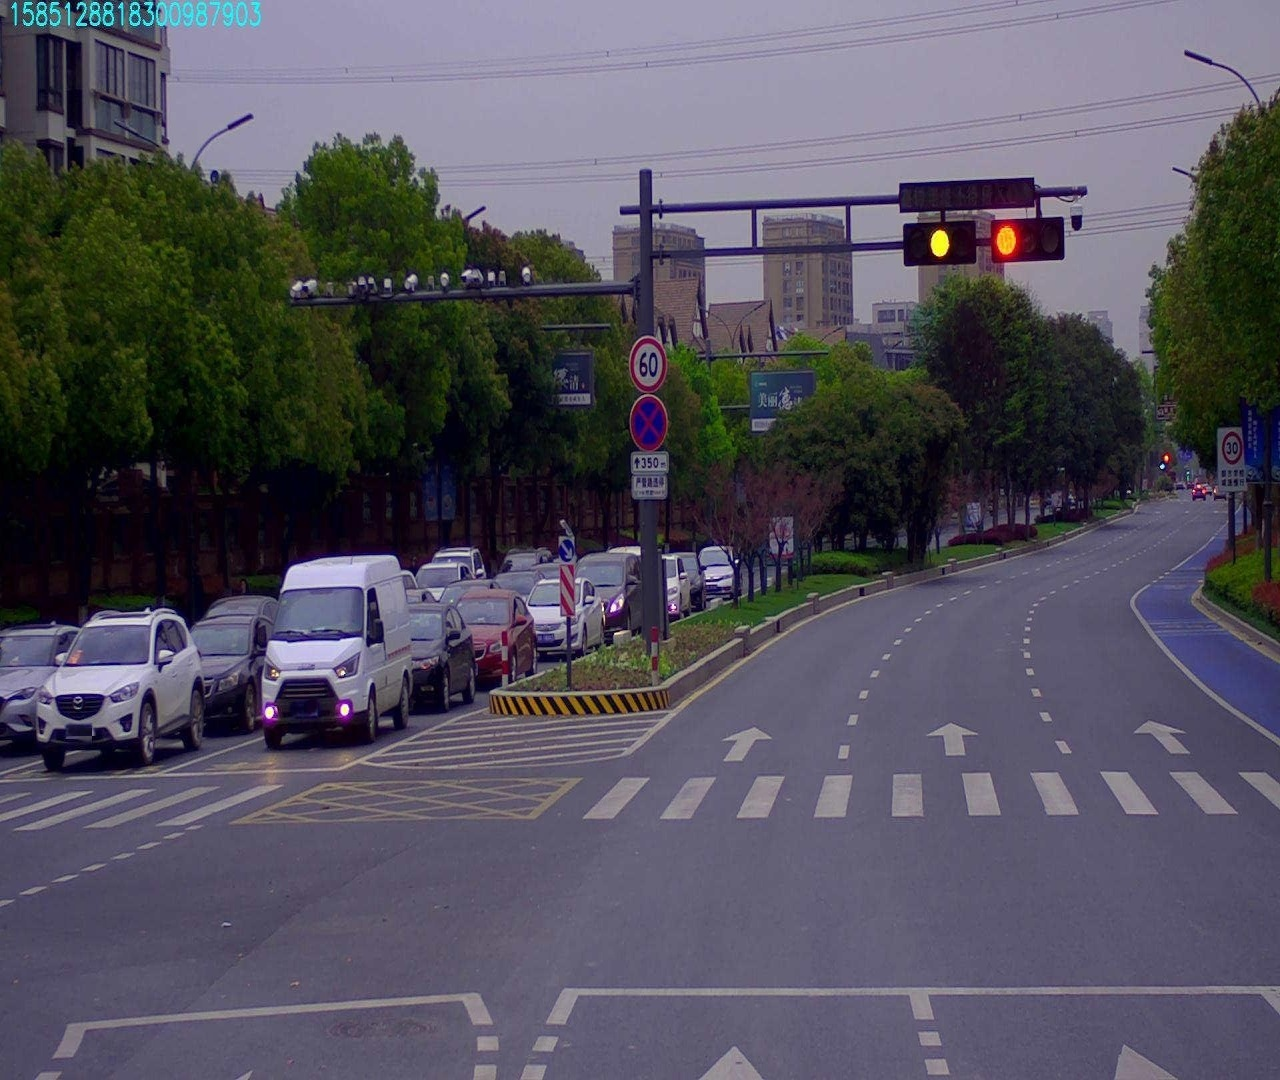red: (996, 220, 1067, 264)
yellow: (906, 220, 972, 269)
